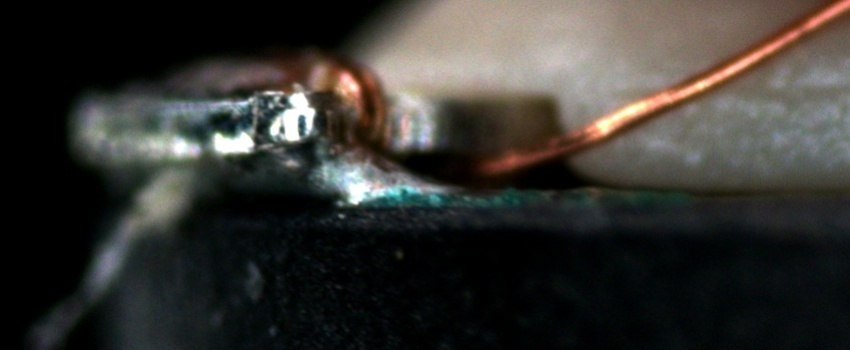DL: (614, 58, 849, 121)
TE: (322, 47, 387, 152)
